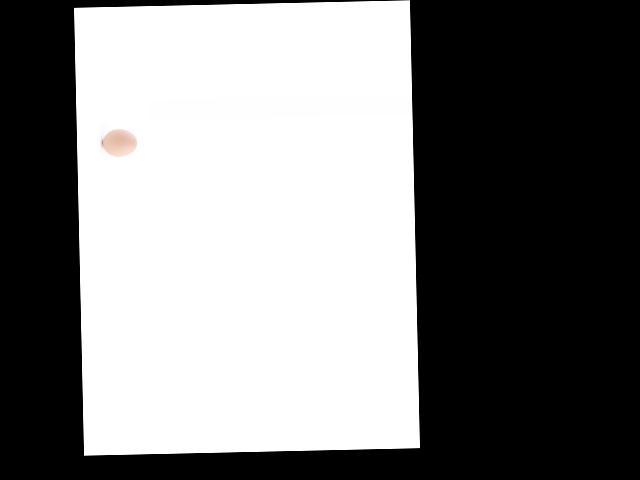egg: (102, 128, 137, 156)
